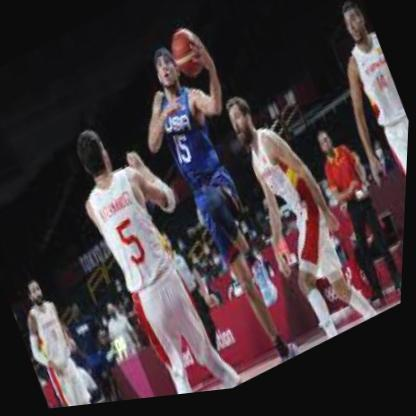basketball: (165, 24, 214, 91)
